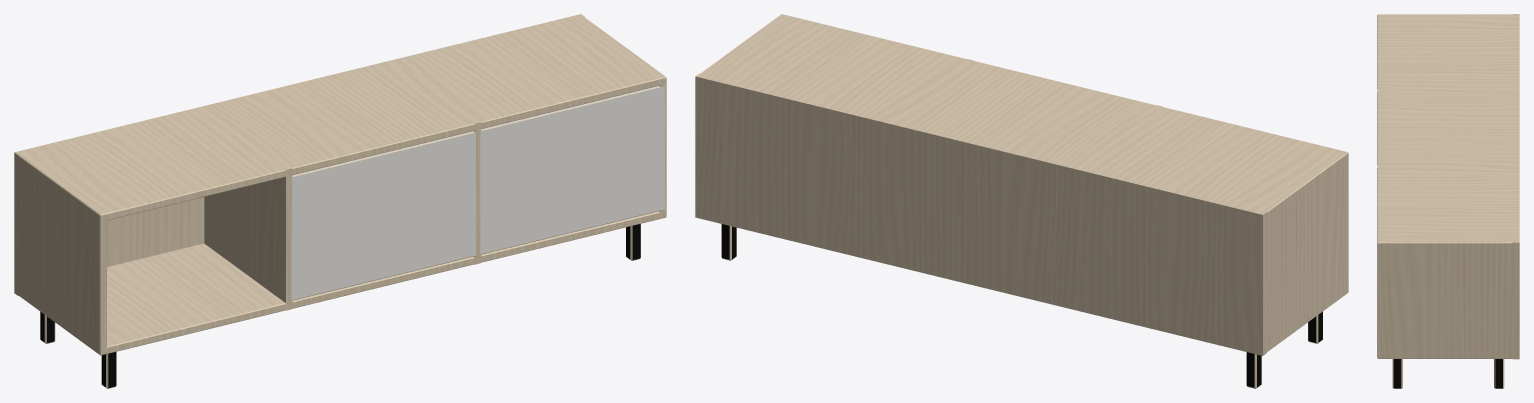
File: tv_stand.glb
3 views of the same model, side by side, from view 1: azimuth 30°, elevation 25°; view 2: azimuth 150°, elevation 25°; view 3: azimuth 270°, elevation 25° (orthographic). The views are drawn at different scales.
Parts seen in each view (by area): view 1: tv_stand; view 2: tv_stand; view 3: tv_stand.
Part boxes in pixels (x1=…): tv_stand: x1=14, y1=14, x2=666, y2=388; tv_stand: x1=695, y1=14, x2=1348, y2=388; tv_stand: x1=1377, y1=14, x2=1519, y2=388.
Size of the model in its own units: 1.6 by 0.5 by 0.42.
3 materials, 1 textured.
